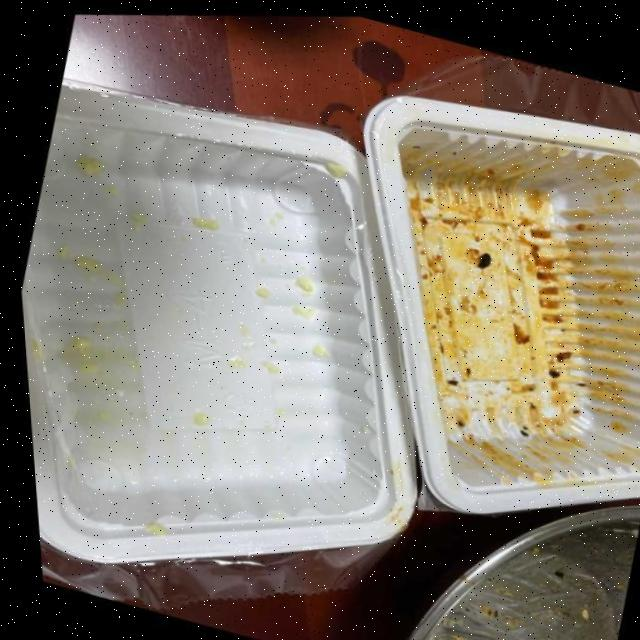disposable: (5, 75, 424, 568)
